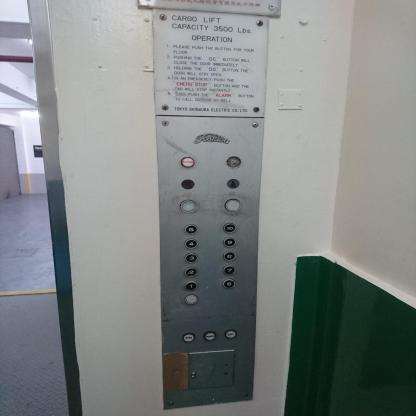1: (184, 280, 198, 291)
10: (223, 222, 236, 233)
2: (184, 266, 198, 277)
3: (184, 252, 198, 263)
4: (184, 238, 198, 249)
5: (184, 224, 197, 235)
6: (222, 278, 235, 288)
7: (223, 264, 236, 275)
8: (223, 250, 236, 261)
9: (223, 236, 235, 247)
DN: (182, 332, 195, 342)
UP: (225, 328, 236, 338)
empty: (224, 198, 242, 212), (181, 179, 195, 189), (184, 294, 198, 304)
open: (179, 198, 197, 212)
text: (180, 156, 195, 168)
text_blur: (226, 154, 242, 168)
text_pass: (203, 330, 215, 341)
up: (226, 178, 241, 188)
